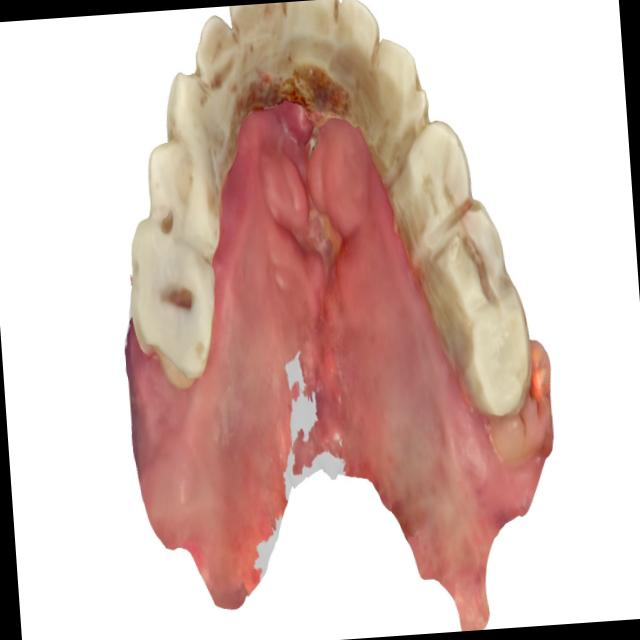tooth: (376, 91, 488, 287), (121, 212, 232, 399), (353, 7, 440, 214), (445, 282, 542, 431), (155, 61, 247, 214), (136, 128, 231, 270), (420, 197, 513, 341), (476, 336, 558, 477), (226, 1, 308, 135), (283, 0, 353, 140), (193, 4, 256, 143), (333, 0, 390, 150)
